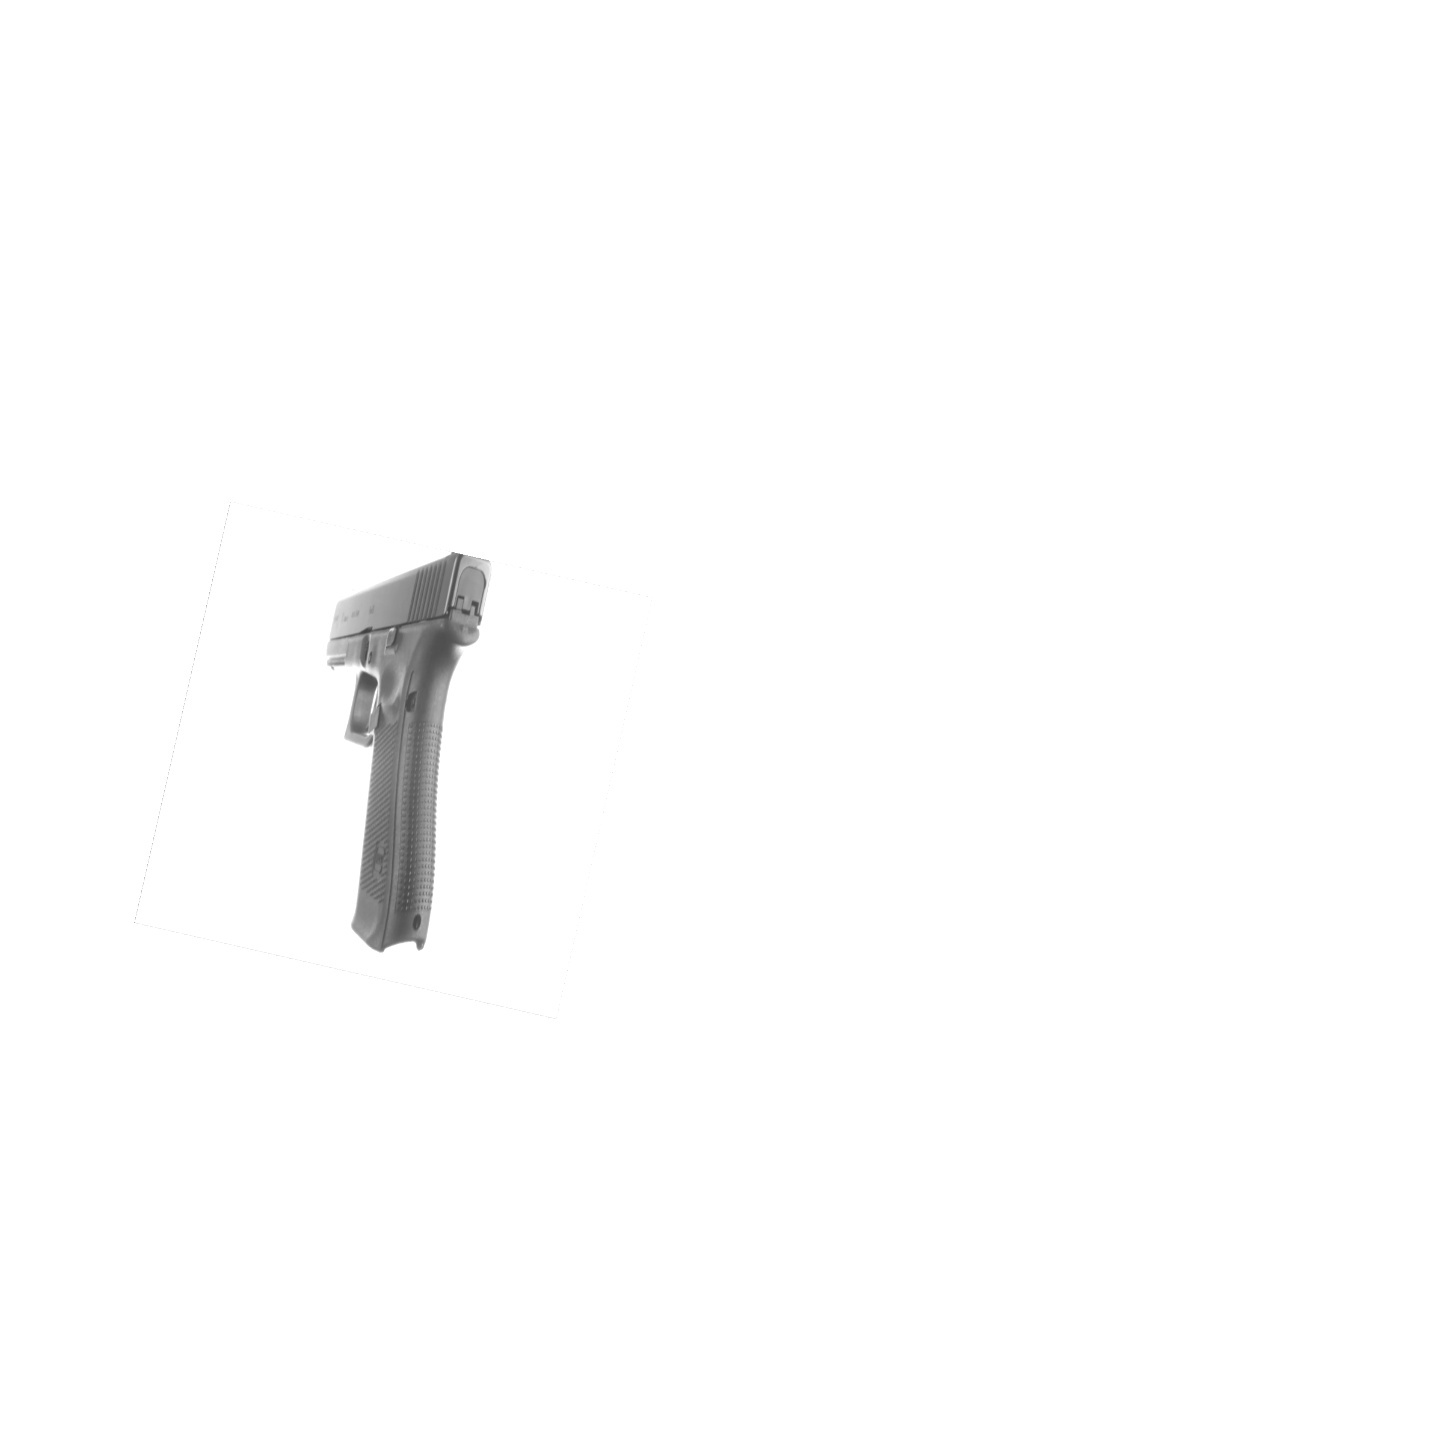gun: (317, 543, 495, 964)
